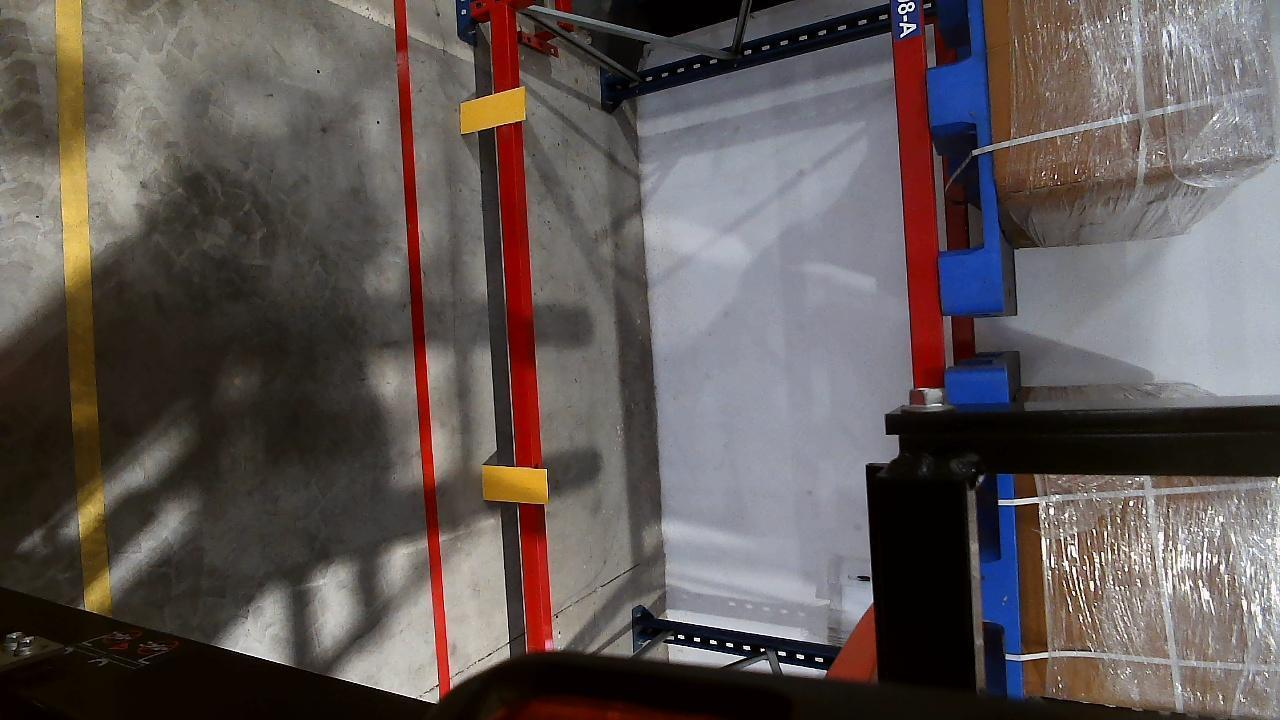red_line: (392, 0, 452, 692)
yellow_line: (51, 2, 104, 602)
